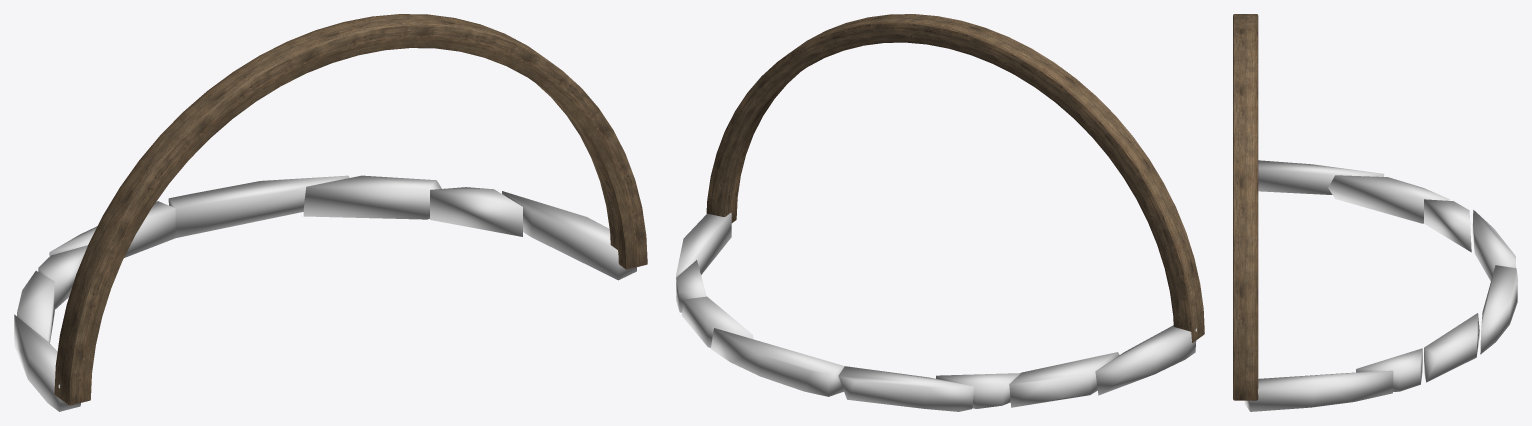
File: SM_DRUNKEN_SKULL_Arch.fbx
3 renders of one model, left to right at view 1: azimuth 30°, elevation 25°; view 2: azimuth 150°, elevation 25°; view 3: azimuth 270°, elevation 25°, orthographic. The views are drawn at different scales.
Parts seen in each view (by area): view 1: SM_DRUNKEN_SKULL_Arch, SM_DRUNKEN_SKULL_Arch_ConvexHulls; view 2: SM_DRUNKEN_SKULL_Arch, SM_DRUNKEN_SKULL_Arch_ConvexHulls; view 3: SM_DRUNKEN_SKULL_Arch_ConvexHulls, SM_DRUNKEN_SKULL_Arch.
Part boxes in pixels (x1,y1,x2,y2): SM_DRUNKEN_SKULL_Arch: [54, 14, 647, 405]; SM_DRUNKEN_SKULL_Arch_ConvexHulls: [14, 175, 636, 411]; SM_DRUNKEN_SKULL_Arch: [706, 14, 1204, 342]; SM_DRUNKEN_SKULL_Arch_ConvexHulls: [676, 213, 1196, 411]; SM_DRUNKEN_SKULL_Arch_ConvexHulls: [1244, 160, 1517, 411]; SM_DRUNKEN_SKULL_Arch: [1233, 14, 1258, 400].
Bounding box in the file's own units: 10.19 × 5.35 × 5.33.
